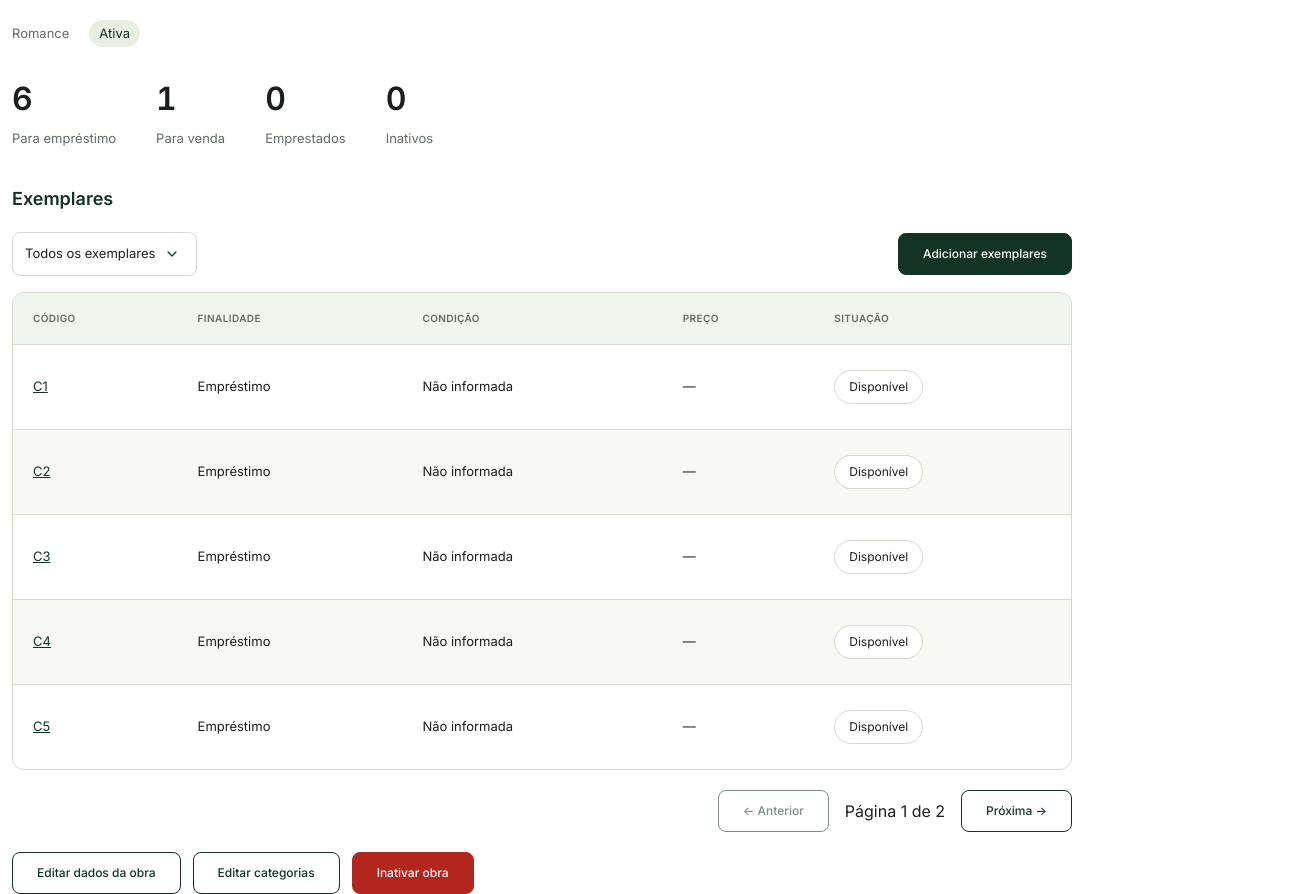
Test: Balcão: detalhes da obra › pagina exemplares de cinco em cinco e reinicia ao trocar o filtro
(page scrolled)
Click the button "Próxima →".
click(1017, 810)  # box left=961, top=790, right=1072, bottom=832
(page scrolled)
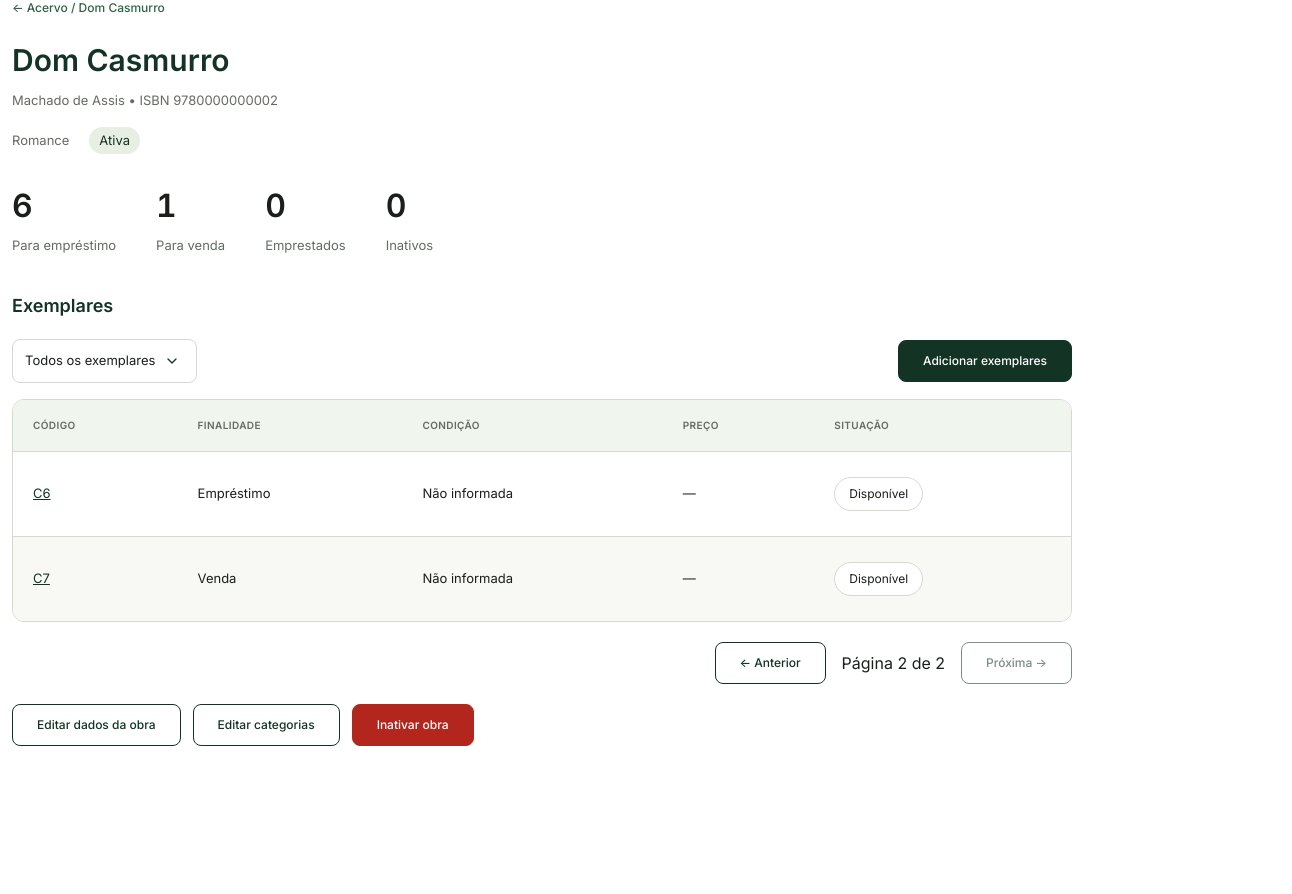
Now the button "Próxima →" is disabled, box left=961, top=642, right=1072, bottom=684
Select "Para venda" in the dropdown with id "copy-filter" at (104, 360), box left=12, top=338, right=197, bottom=382
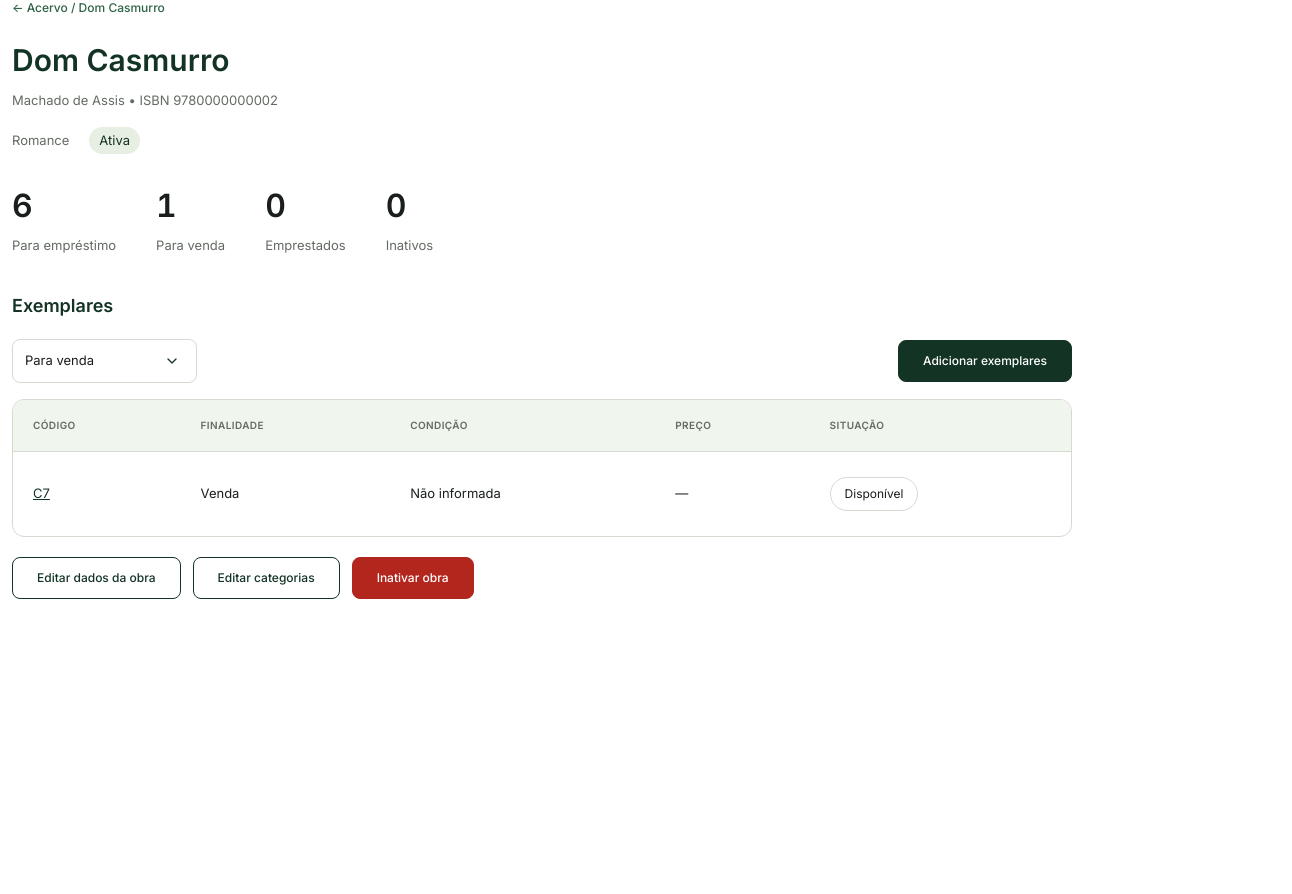
Now the row "C7 Venda Não informada — Disponível" is shown, box left=13, top=451, right=1071, bottom=536
Now the navigation bar with class "copy-pagination" is gone
